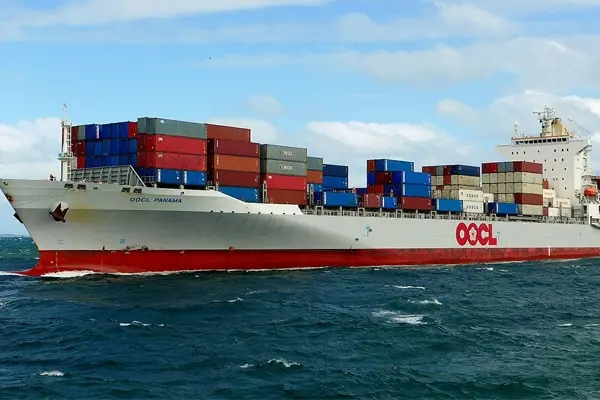Cargoship: (2, 93, 600, 277)
